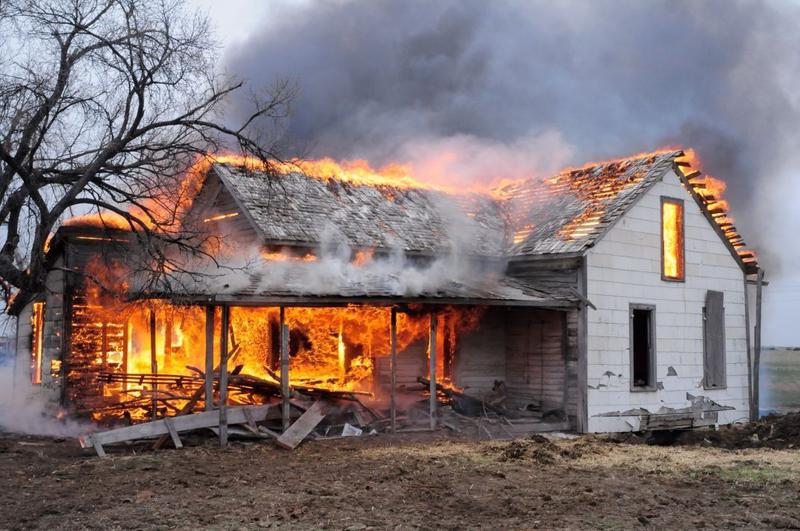fire: (70, 280, 481, 426), (496, 147, 638, 243), (63, 160, 208, 240), (681, 139, 767, 272), (213, 147, 466, 192), (659, 186, 690, 290), (25, 301, 50, 387)
